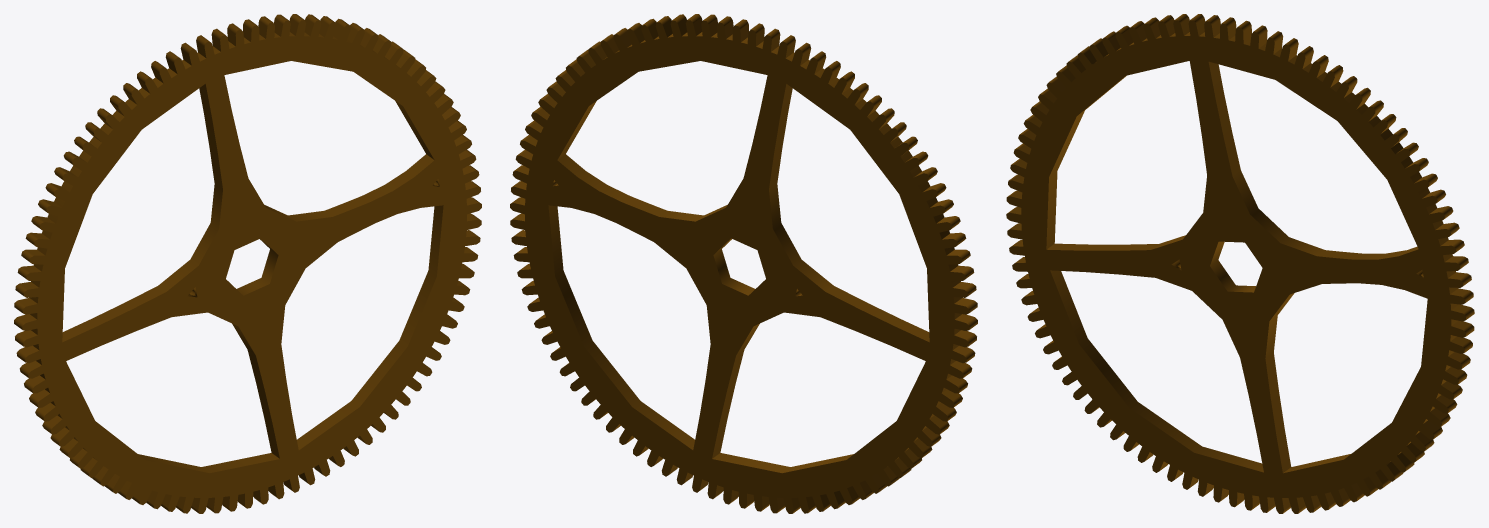
The model's file is Roue dente_Roue d arret Quarts.obj.
The picture shows the model from 3 angles, left to right: view 1: azimuth 30°, elevation 25°; view 2: azimuth 150°, elevation 25°; view 3: azimuth 330°, elevation 25°; orthographic projection.
Parts seen in each view (by area): view 1: Face_2, Face_378, Face_369, Face_368, Face_367, Face_370, Face_381, Face_364, Face_379; view 2: Face_3, Face_378, Face_369, Face_368, Face_367, Face_370, Face_381, Face_364, Face_379; view 3: Face_2, Face_367, Face_373, Face_377, Face_372, Face_371, Face_368, Face_379.
Boxes of the visible parts, x1,y1,x2,y2 form: Face_2: (22, 20, 481, 513); Face_378: (297, 205, 443, 449); Face_369: (158, 184, 222, 291); Face_368: (62, 286, 165, 342); Face_367: (138, 453, 279, 473); Face_370: (199, 84, 222, 189); Face_381: (362, 154, 434, 201); Face_364: (247, 350, 279, 458); Face_379: (237, 238, 278, 295); Face_3: (510, 20, 969, 513); Face_378: (548, 205, 694, 449); Face_369: (769, 184, 833, 291); Face_368: (826, 286, 929, 342); Face_367: (712, 453, 853, 473); Face_370: (769, 84, 792, 189); Face_381: (557, 154, 629, 201); Face_364: (712, 350, 744, 458); Face_379: (713, 238, 754, 295); Face_2: (1006, 20, 1465, 513); Face_367: (1050, 270, 1263, 472); Face_373: (1232, 170, 1324, 255); Face_377: (1265, 352, 1291, 472); Face_372: (1208, 61, 1240, 176); Face_371: (1046, 75, 1126, 249); Face_368: (1047, 243, 1158, 250); Face_379: (1210, 241, 1255, 292).
Bounding box in the file's own units: 0.0599 × 0.0599 × 0.0019.
